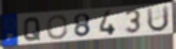3: (124, 8, 142, 34)
4: (98, 10, 117, 37)
8: (73, 13, 93, 38)
O: (46, 14, 69, 40)
Q: (22, 16, 42, 43)
U: (145, 5, 171, 34)
